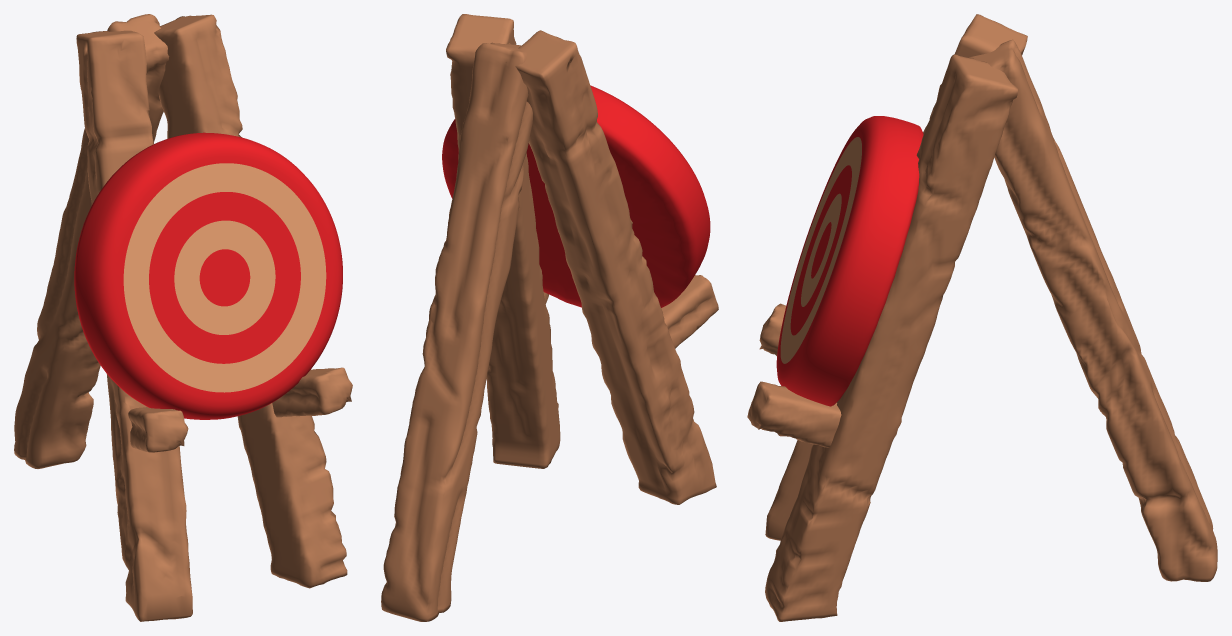
Rendered from Target.fbx.
3 renders of one model, left to right at view 1: azimuth 30°, elevation 25°; view 2: azimuth 150°, elevation 25°; view 3: azimuth 270°, elevation 25°, orthographic. The views are drawn at different scales.
Parts seen in each view (by area): view 1: Target; view 2: Target; view 3: Target.
Boxes of the visible parts, left/top/right/bottom form: Target: left=14, top=14, right=352, bottom=621; Target: left=381, top=14, right=718, bottom=621; Target: left=747, top=14, right=1217, bottom=621.
Size of the model in its own units: 99.36 by 194 by 156.
